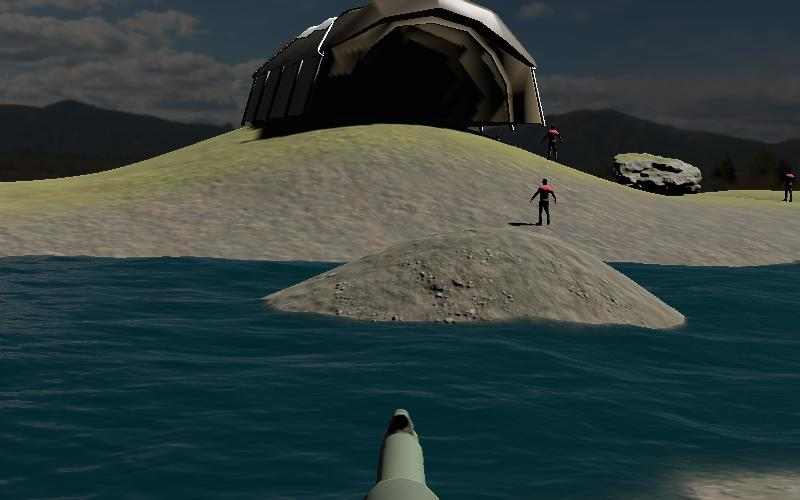Human: (528, 175, 560, 230), (540, 122, 566, 162)
